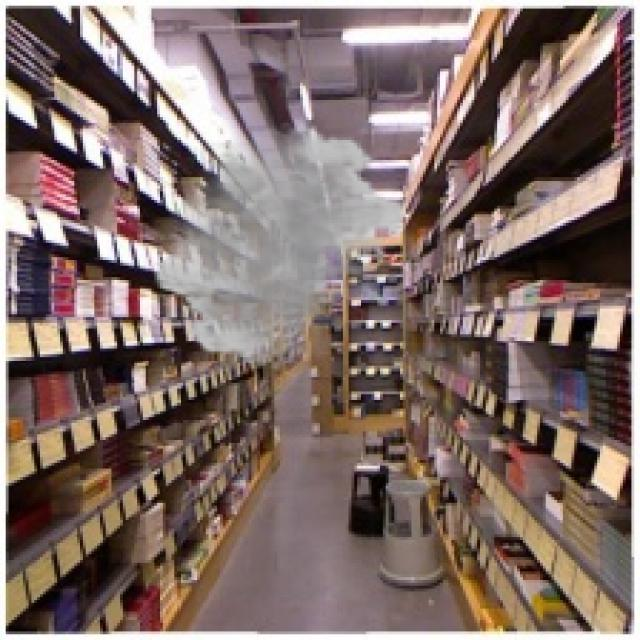smoke: (152, 123, 408, 368)
